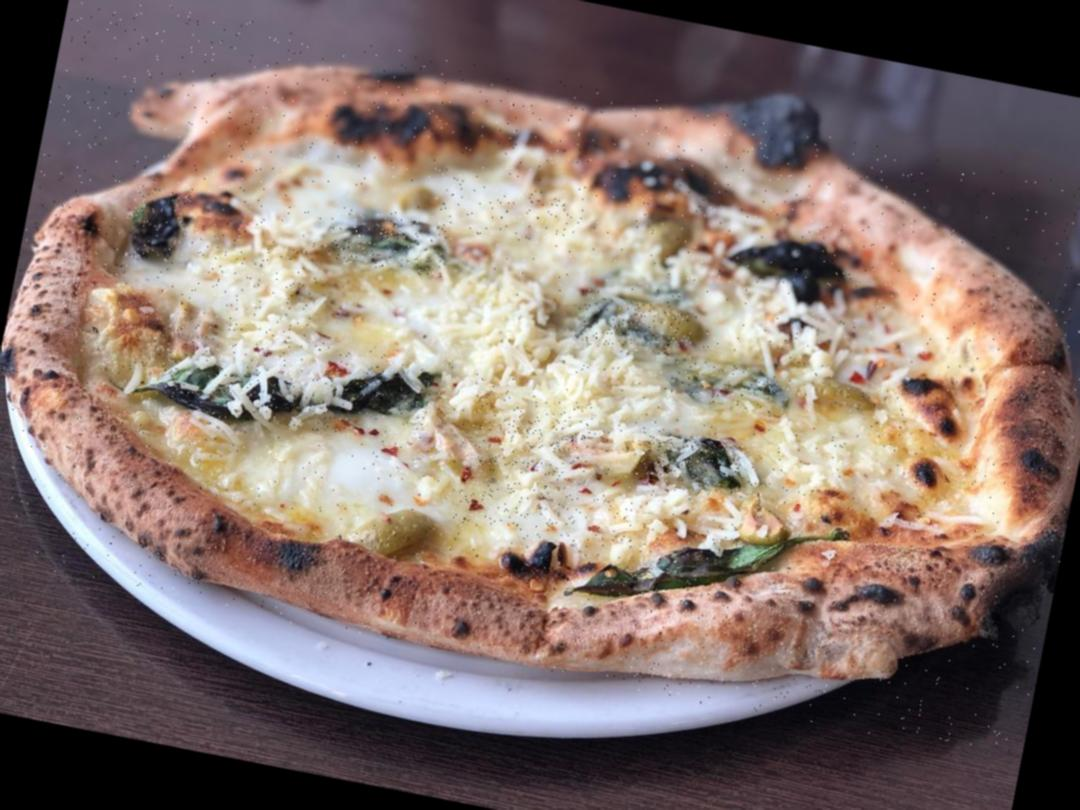Basil: (148, 312, 441, 451), (308, 258, 580, 389), (572, 491, 802, 637), (178, 216, 326, 339), (323, 206, 451, 280), (578, 293, 698, 365), (665, 352, 791, 419), (632, 426, 748, 496), (125, 185, 191, 268)
Cheese: (453, 384, 598, 544), (433, 177, 584, 254), (266, 441, 396, 517), (759, 424, 888, 494), (272, 156, 356, 216)
Pizza: (0, 0, 1080, 765)
